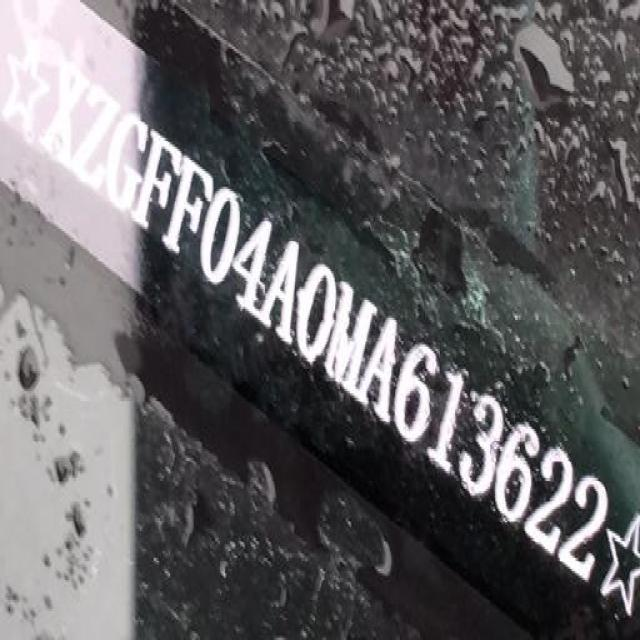0: (284, 244, 346, 384), (191, 176, 252, 309)
1: (422, 355, 475, 494)
2: (519, 428, 583, 581), (555, 458, 615, 598)
3: (449, 376, 514, 522)
4: (221, 194, 283, 332)
6: (483, 406, 548, 550), (383, 323, 446, 469)
A: (351, 294, 415, 442), (253, 219, 312, 363)
F: (156, 147, 218, 276), (127, 125, 183, 249)
G: (98, 102, 153, 228)
M: (317, 269, 382, 407)
X: (37, 53, 92, 174)
Z: (67, 74, 123, 201)
